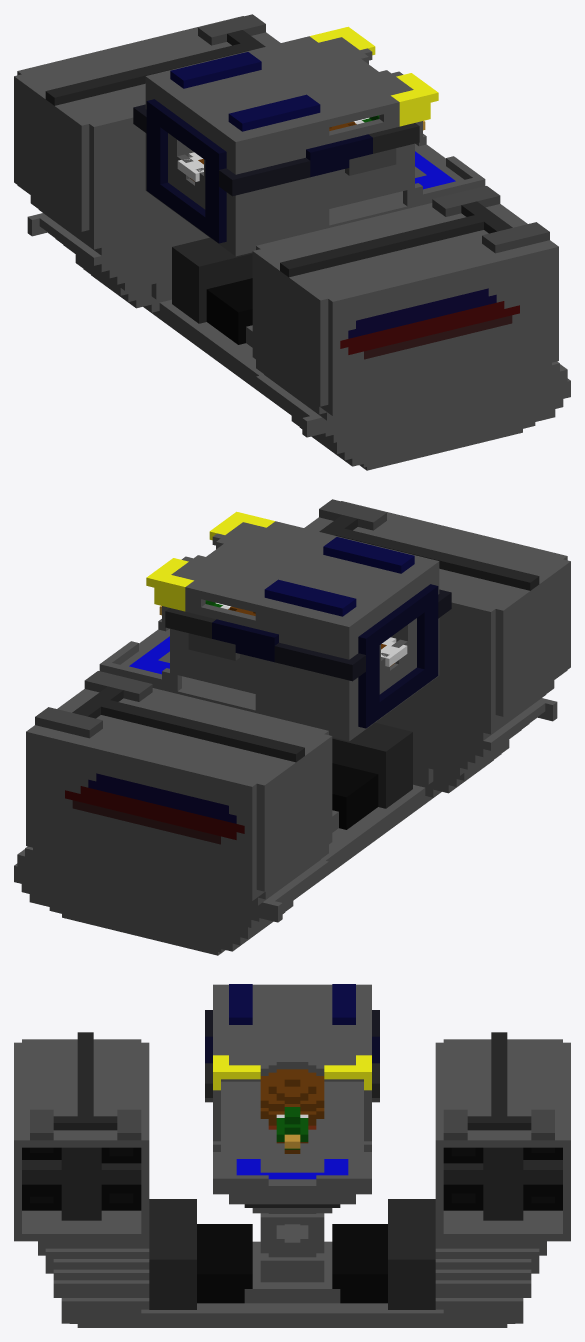
The model's file is MissileBatteryTurret.obj.
3 views of the same model, one above another, from view 1: azimuth 30°, elevation 25°; view 2: azimuth 150°, elevation 25°; view 3: azimuth 270°, elevation 25° (orthographic). The views are drawn at different scales.
Visible parts, largest first — view 1: Turret, Duck; view 2: Turret, Duck; view 3: Turret, Duck.
Boxes of the visible parts, x1,y1,x2,y2 form: Turret: [14, 14, 570, 470]; Duck: [177, 115, 425, 181]; Turret: [14, 499, 570, 955]; Duck: [159, 600, 407, 666]; Turret: [14, 984, 570, 1327]; Duck: [260, 1069, 324, 1153].
Bounding box in the file's own units: 35 × 38 × 70.
1 material, 1 textured.
